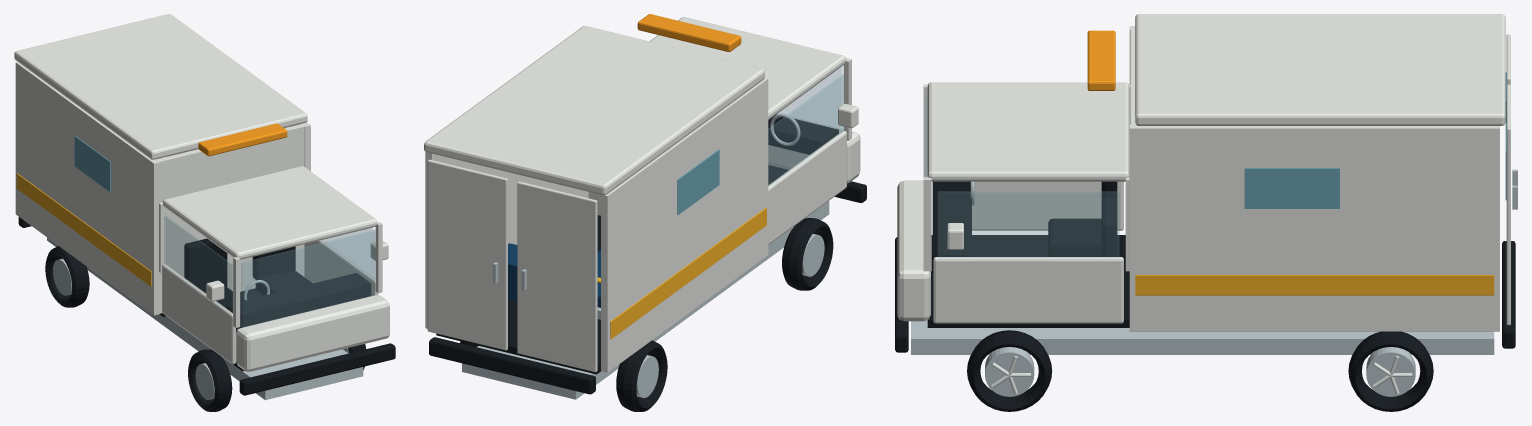
File: edited.glb
3 views of the same model, side by side, from view 1: azimuth 30°, elevation 25°; view 2: azimuth 150°, elevation 25°; view 3: azimuth 270°, elevation 25° (orthographic). The views are drawn at different scales.
Parts seen in each view (by area): view 1: PATIENT_Roof, PATIENT_Side, CABIN_Roof, CABIN_Windscreen, PATIENT_Bulkhead, CABIN_Nose, CABIN_Door.001, INTERIOR_Dashboard, CABIN_SideGlass.001, CHASSIS, BUMPER.001, PATIENT_Stripe (+16 smaller); view 2: PATIENT_Roof, PATIENT_Side, REAR_DoorLeaf, REAR_DoorLeaf.001, CABIN_Roof, CABIN_Door.001, CABIN_SideGlass.001, BUMPER, PATIENT_Stripe, CHASSIS, PATIENT_Side.001, TYRE (+13 smaller); view 3: PATIENT_Side.001, PATIENT_Roof, CABIN_Roof, CABIN_Door, CHASSIS, CABIN_SideGlass, PATIENT_Stripe.001, CABIN_Door.001, CABIN_Nose, PATIENT_Window.001, CABIN_Floor, TYRE.002 (+12 smaller).
Boxes of the visible parts, x1,y1,x2,y2 form: PATIENT_Roof: (14,14,307,159); PATIENT_Side: (15,62,159,315); CABIN_Roof: (162,166,377,259); CABIN_Windscreen: (241,230,374,327); PATIENT_Bulkhead: (155,123,306,313); CABIN_Nose: (236,295,389,371); CABIN_Door.001: (162,264,235,364); INTERIOR_Dashboard: (226,273,371,328); CABIN_SideGlass.001: (164,215,232,313); CHASSIS: (47,237,363,400); BUMPER.001: (239,343,395,395); PATIENT_Stripe: (16,173,151,286); PATIENT_Roof: (424,26,764,195); PATIENT_Side: (601,77,768,372); REAR_DoorLeaf: (517,181,597,372); REAR_DoorLeaf.001: (427,159,507,350); CABIN_Roof: (649,17,845,119); CABIN_Door.001: (768,131,846,244); CABIN_SideGlass.001: (768,74,843,186); BUMPER: (429,337,595,394); PATIENT_Stripe: (610,207,766,339); CHASSIS: (462,201,829,399); PATIENT_Side.001: (425,152,588,328); TYRE: (782,218,833,290); PATIENT_Side.001: (1129,124,1499,331); PATIENT_Roof: (1135,14,1505,125); CABIN_Roof: (927,82,1129,181); CABIN_Door: (933,257,1123,323); CHASSIS: (911,320,1494,354); CABIN_SideGlass: (938,191,1119,257); PATIENT_Stripe.001: (1135,275,1494,295); CABIN_Door.001: (972,181,1123,230); CABIN_Nose: (897,180,930,321); PATIENT_Window.001: (1244,168,1339,208); CABIN_Floor: (927,235,1129,327); TYRE.002: (967,330,1052,411).
Size of the model in its own units: 2.44 by 3.05 by 5.55.
